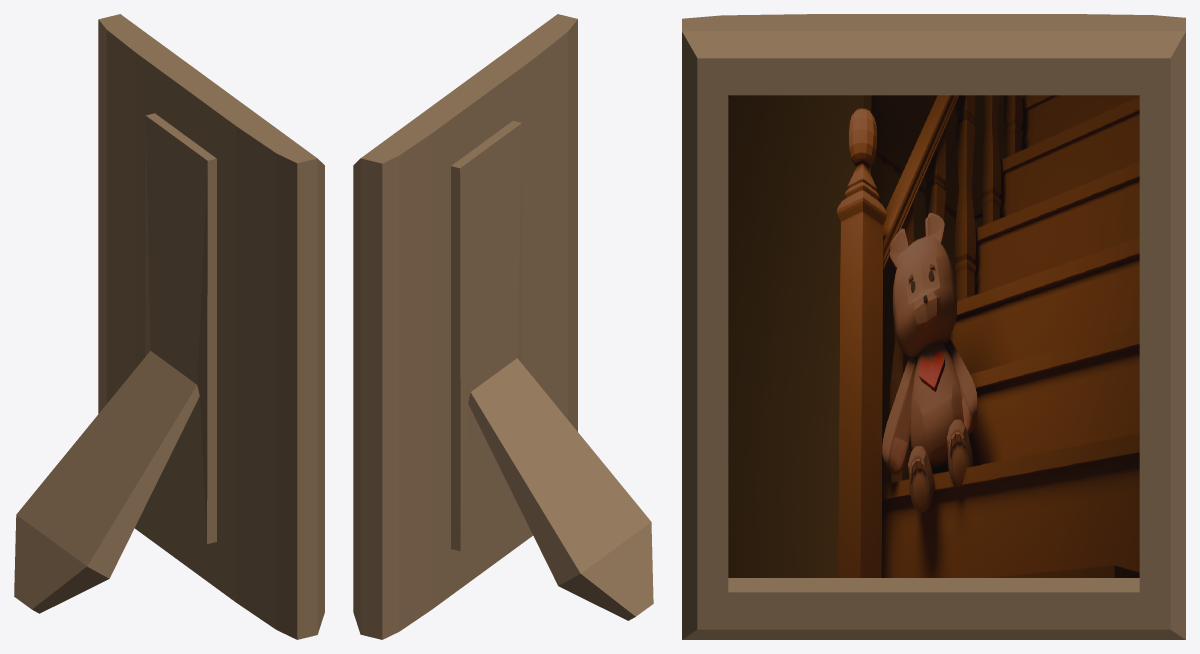
File: PictureFrame.fbx
3 renders of one model, left to right at view 1: azimuth 30°, elevation 25°; view 2: azimuth 150°, elevation 25°; view 3: azimuth 270°, elevation 25°, orthographic. The views are drawn at different scales.
Parts seen in each view (by area): view 1: PictureFrame; view 2: PictureFrame; view 3: PictureFrame.
Part boxes in pixels (x1,y1,x2,y2): PictureFrame: (14,14,324,639); PictureFrame: (353,14,653,639); PictureFrame: (682,14,1185,639).
Size of the model in its own units: 89.63 by 202 by 150.
Materials: 2 (1 with a texture image).
